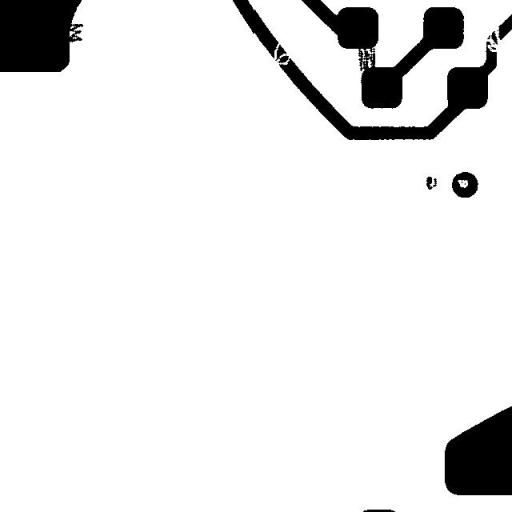copper: (418, 169, 444, 197)
open: (262, 28, 300, 79), (475, 18, 509, 60)
pin-hole: (450, 172, 475, 195)
short: (350, 28, 382, 91)
spur: (56, 16, 90, 50)
